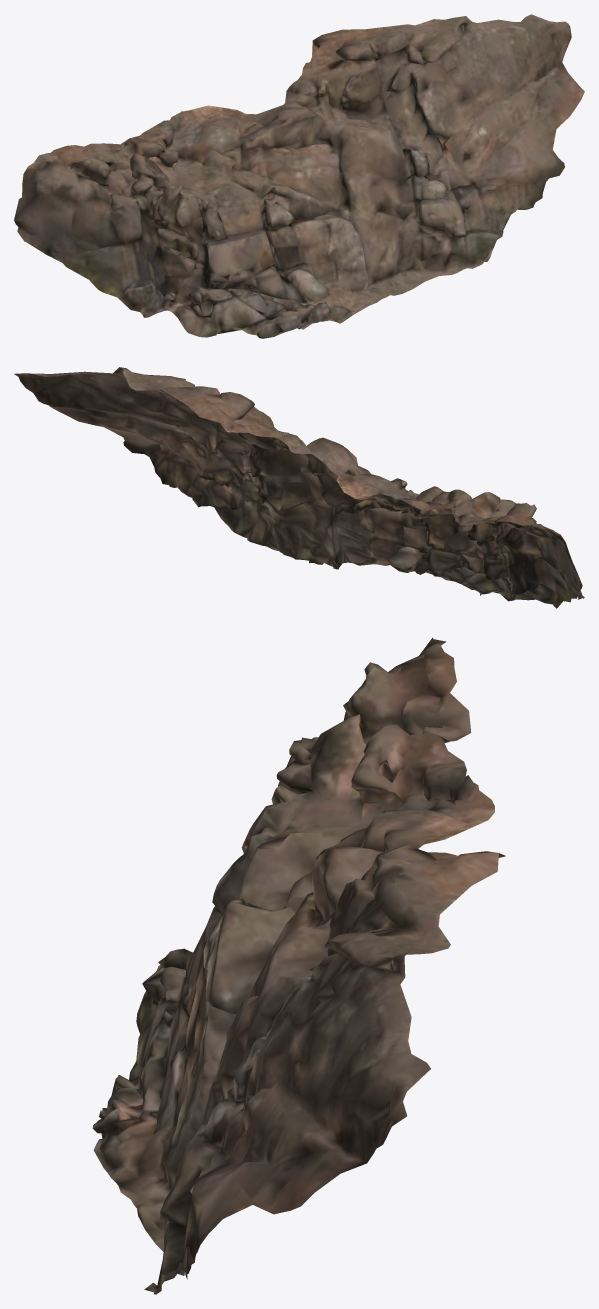
Rendered from namaqualand_cliff_02_lod1.glb.
The picture shows the model from 3 angles, top to bottom: view 1: azimuth 30°, elevation 25°; view 2: azimuth 150°, elevation 25°; view 3: azimuth 270°, elevation 25°; orthographic projection. The views are drawn at different scales.
Parts seen in each view (by area): view 1: drone_rock_02_LOD0; view 2: drone_rock_02_LOD0; view 3: drone_rock_02_LOD0.
Part boxes in pixels (x1,y1,x2,y2): drone_rock_02_LOD0: (14,14,584,338); drone_rock_02_LOD0: (14,367,584,608); drone_rock_02_LOD0: (92,637,505,1294).
Bounding box in the file's own units: 20.22 × 7.17 × 6.58.
1 material, 1 textured.
